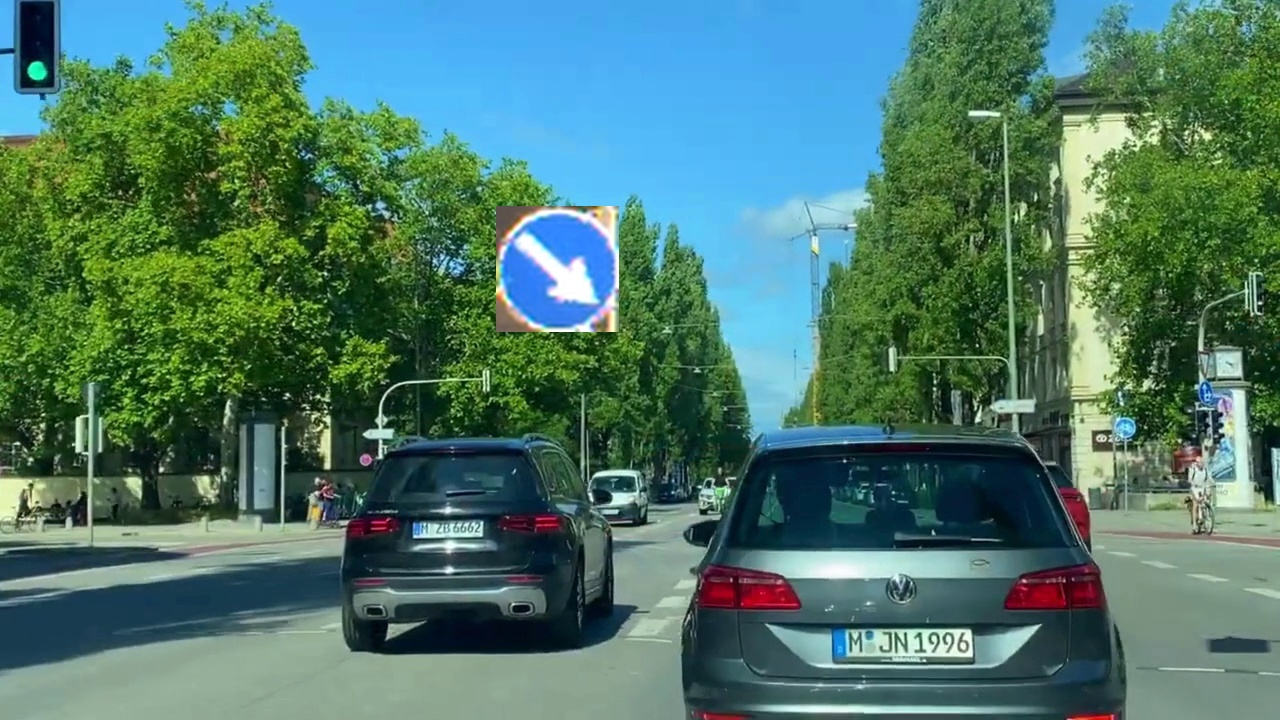Keep right: (496, 206, 619, 332)
